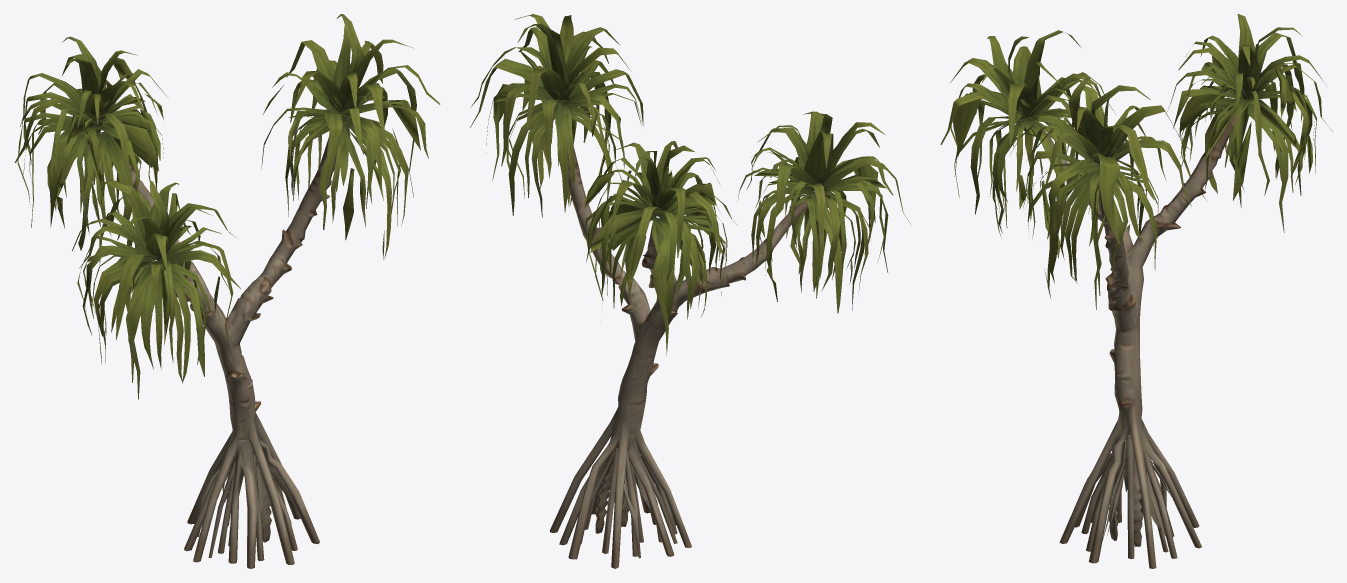
File: pandan_b.glb
The picture shows the model from 3 angles, left to right: view 1: azimuth 30°, elevation 25°; view 2: azimuth 150°, elevation 25°; view 3: azimuth 270°, elevation 25°; orthographic projection. The views are drawn at different scales.
Visible parts, largest first — view 1: geometry_0; view 2: geometry_0; view 3: geometry_0.
Boxes of the visible parts, x1,y1,x2,y2 form: geometry_0: (14,14,440,568); geometry_0: (470,14,910,568); geometry_0: (940,14,1332,568).
Size of the model in its own units: 0.7681 by 0.9537 by 0.6816.
1 material, 1 textured.
